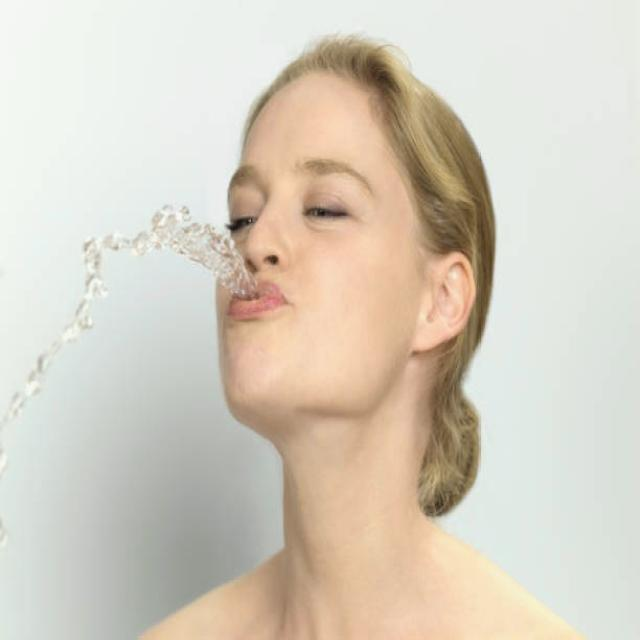Spitting: (106, 34, 498, 575)
